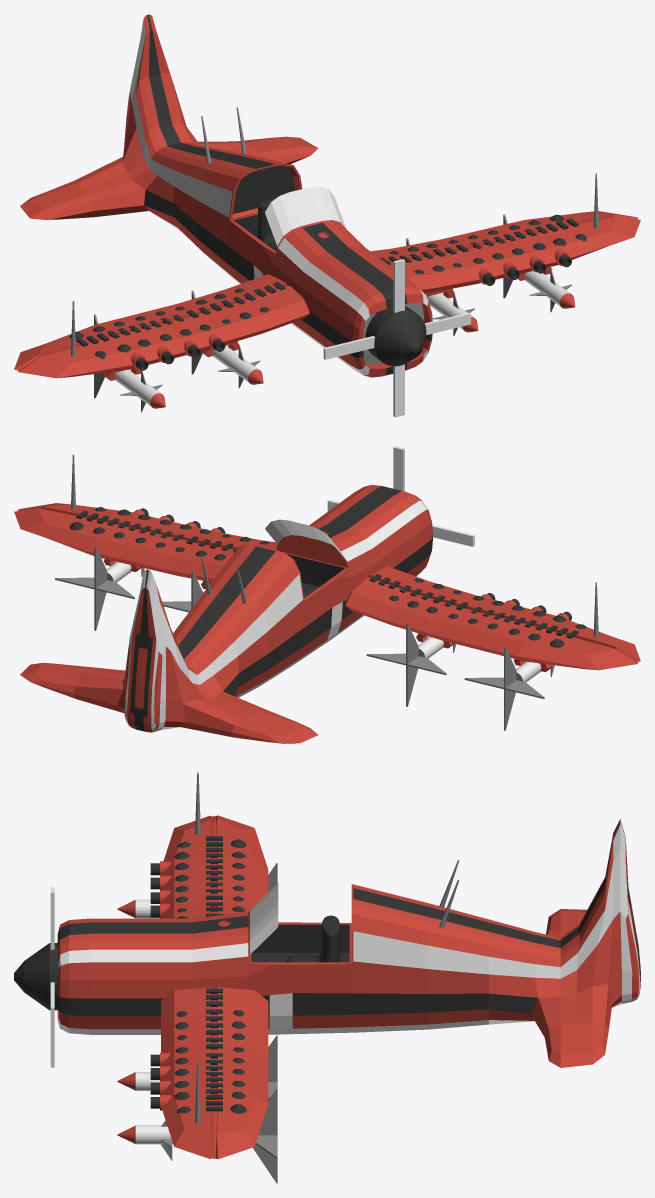
The model's file is Warplane.fbx.
The picture shows the model from 3 angles, top to bottom: view 1: azimuth 30°, elevation 25°; view 2: azimuth 150°, elevation 25°; view 3: azimuth 270°, elevation 25°; orthographic projection. The views are drawn at different scales.
Visible parts, largest first — view 1: Body, Propeller, Missile.001, Missile.003, Missile.000, Missile.002, Chair; view 2: Body, Missile.003, Missile.001, Missile.000, Propeller, Missile.002; view 3: Body, Propeller, Missile.003, Chair, Missile.002, Missile.001.
Part boxes in pixels (x1=…): Body: x1=14, y1=14, x2=640, y2=380; Propeller: x1=323, y1=259, x2=470, y2=417; Missile.001: x1=94, y1=314, x2=165, y2=412; Missile.003: x1=503, y1=214, x2=575, y2=312; Missile.000: x1=191, y1=290, x2=263, y2=388; Missile.002: x1=406, y1=238, x2=478, y2=335; Chair: x1=258, y1=197, x2=277, y2=251; Body: x1=14, y1=454, x2=640, y2=743; Missile.003: x1=55, y1=547, x2=144, y2=630; Missile.001: x1=464, y1=647, x2=554, y2=730; Missile.000: x1=366, y1=623, x2=456, y2=706; Propeller: x1=327, y1=446, x2=474, y2=546; Missile.002: x1=162, y1=571, x2=203, y2=612; Body: x1=57, y1=772, x2=640, y2=1159; Propeller: x1=14, y1=887, x2=58, y2=1067; Missile.003: x1=117, y1=1088, x2=277, y2=1183; Chair: x1=287, y1=915, x2=340, y2=962; Missile.002: x1=117, y1=1035, x2=277, y2=1100; Missile.001: x1=117, y1=863, x2=277, y2=918.
Bounding box in the file's own units: 24.16 × 8.21 × 18.6.
